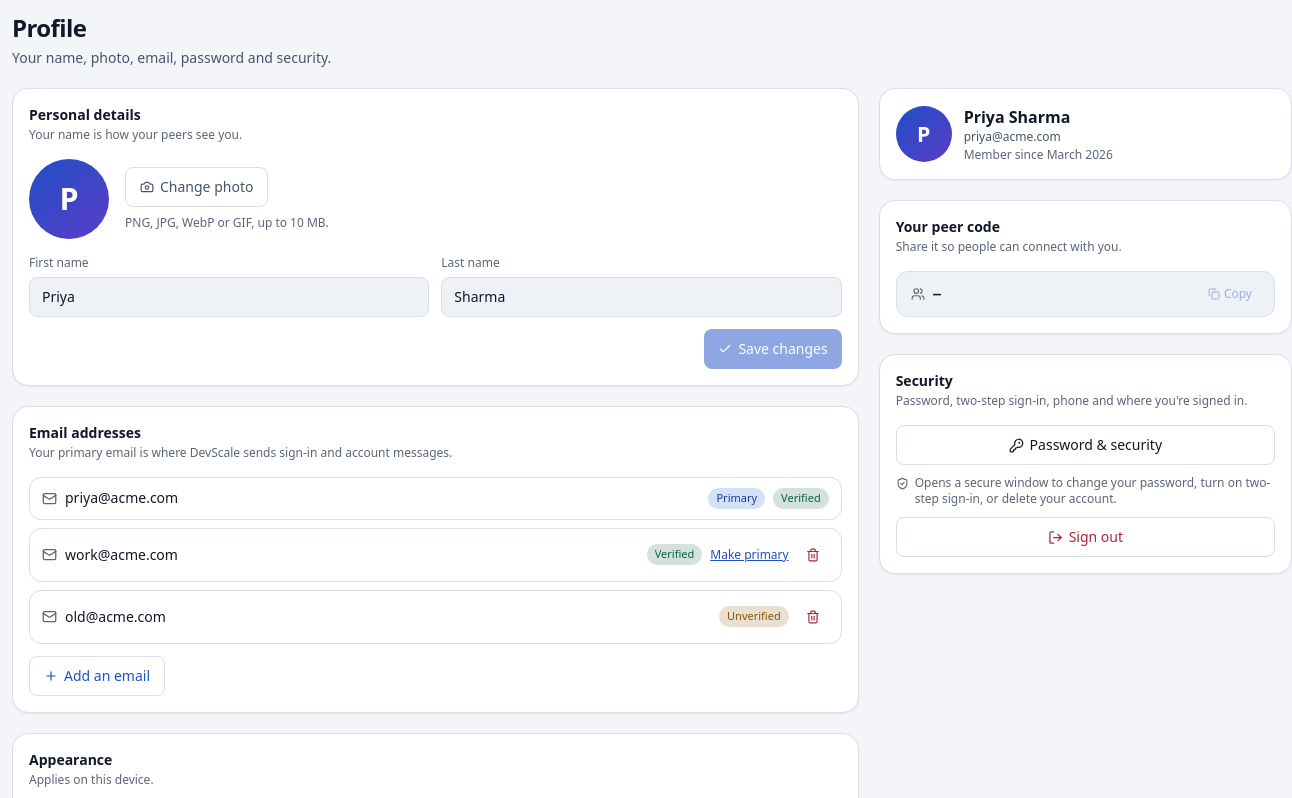
Scenario: Profile: personal details › can only save once something changed, and saves trimmed names to Clerk
The image size is (1292, 798).
Expected: the button "Save changes" is disabled, [704,329,842,369]
Replace the text in the field labelled "First name" with "  Priyanka " at (229, 297), box [29,277,429,317]
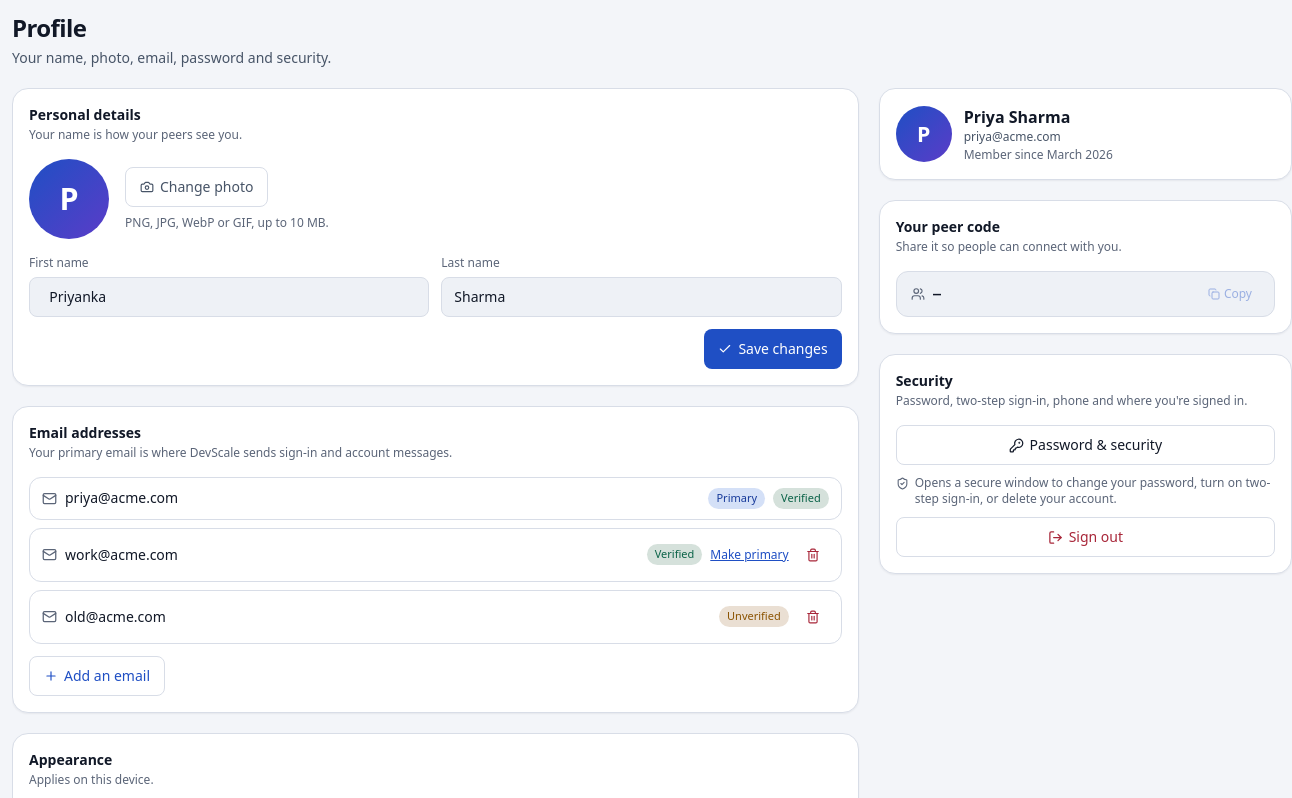
Expected: the button "Save changes" is enabled
Click the button "Save changes" at (773, 349), box [704,329,842,369]
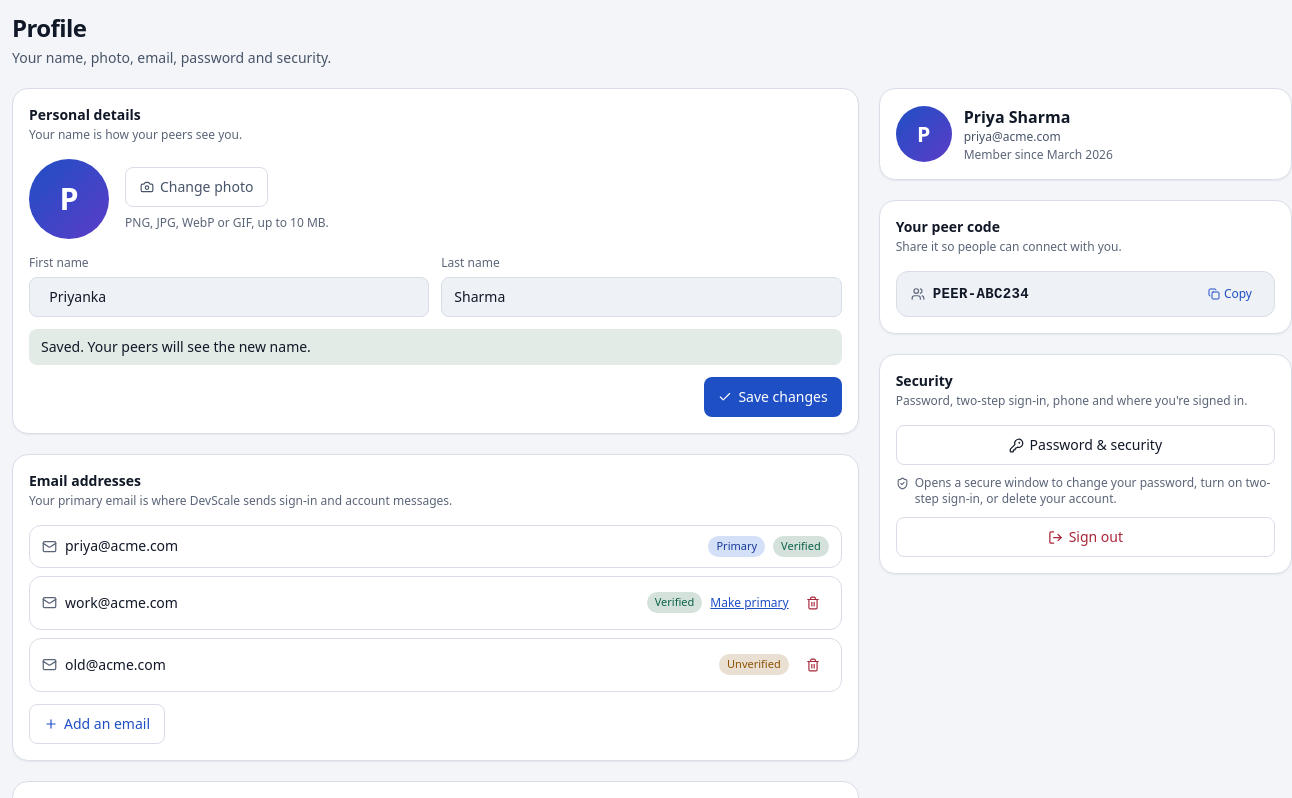
Expected: the message shows "peers will see the new name", [41,337,311,356]
